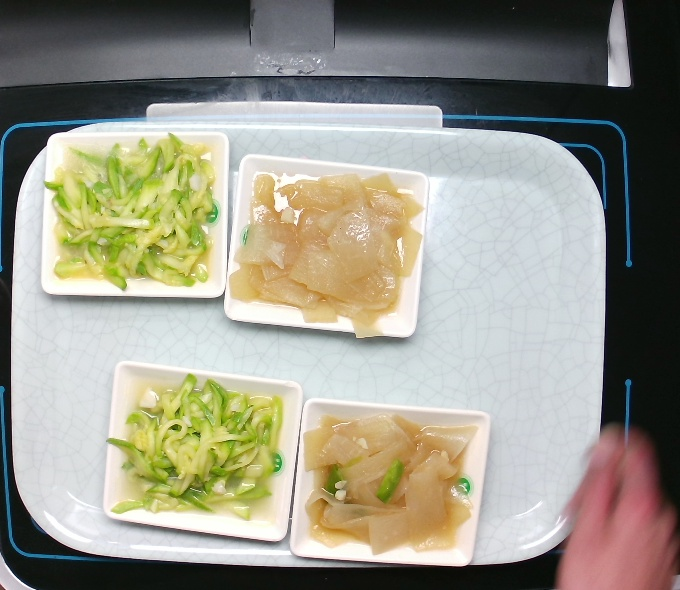wcq-LuoBo: (229, 159, 434, 343), (293, 404, 485, 564)
wcq-NenNanGua: (37, 135, 213, 296), (108, 373, 293, 526)
